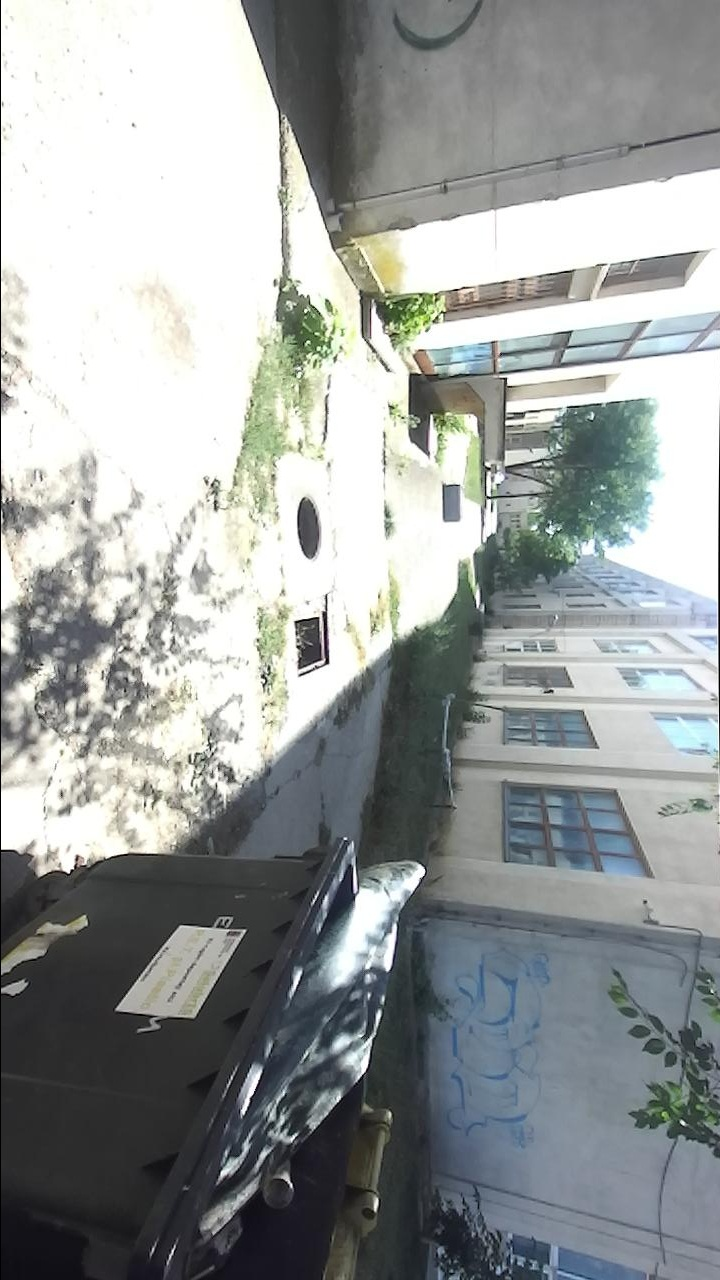drain: (291, 610, 330, 679), (295, 489, 327, 566)
